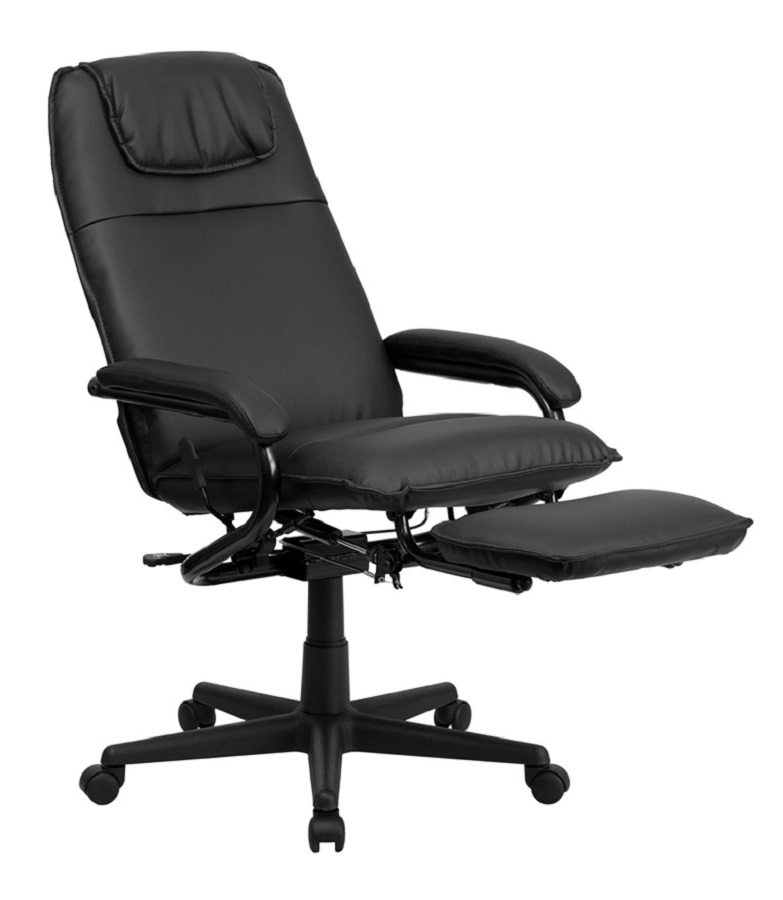chairs: (23, 51, 759, 852)
